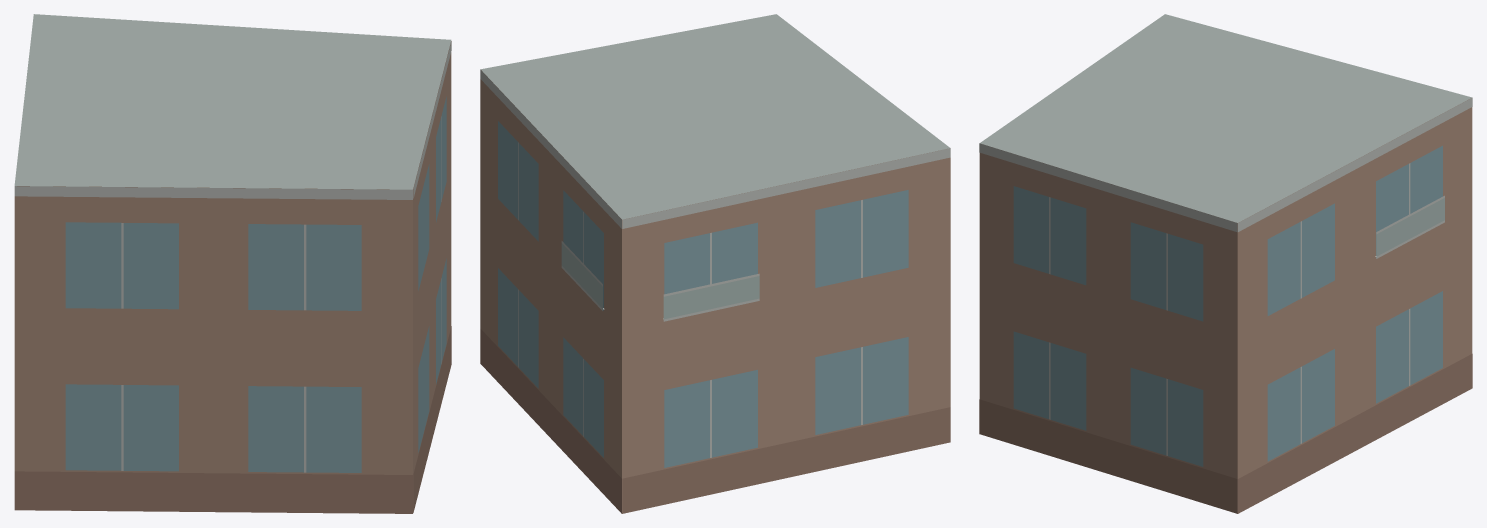
The model's file is survey-upis-33046328.glb.
3 renders of one model, left to right at view 1: azimuth 30°, elevation 25°; view 2: azimuth 150°, elevation 25°; view 3: azimuth 270°, elevation 25°, orthographic. The views are drawn at different scales.
Visible parts, largest first — view 1: survey-upis-33046328.tmp; view 2: survey-upis-33046328.tmp; view 3: survey-upis-33046328.tmp.
Part boxes in pixels (<box>): survey-upis-33046328.tmp: <box>14,14,451,513</box>; survey-upis-33046328.tmp: <box>480,14,950,513</box>; survey-upis-33046328.tmp: <box>979,14,1472,513</box>.
Bounding box in the file's own units: 11.73 × 7.6 × 11.68.
